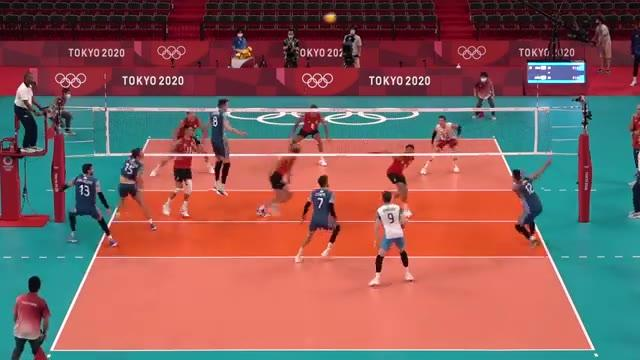ball: (323, 12, 337, 24)
